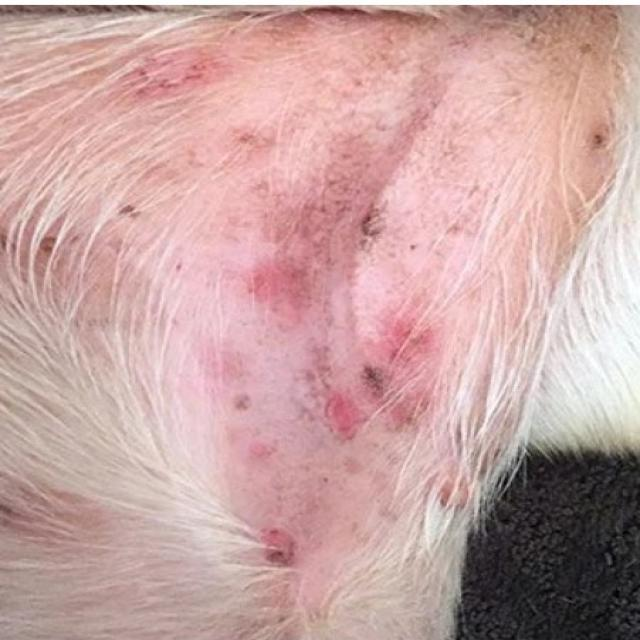fungal infection: (5, 10, 640, 566)
